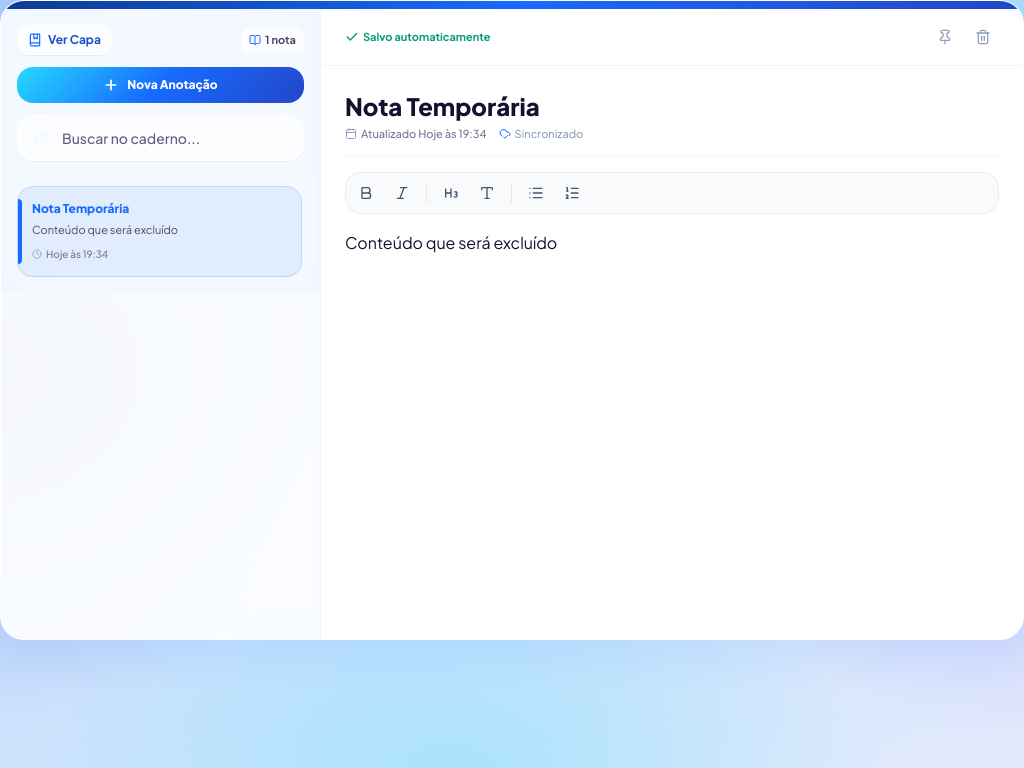
Test: Anotações (Notes) UI and Integration Tests › confirms before deleting a note and removes it upon confirmation
Expected: the heading "Nota Temporária" is shown, [32,201,129,216]
Note: Click delete trigger button in the note editor
Step 1. Click the button named "Excluir anotação" → [983, 37], box [967,21,999,53]
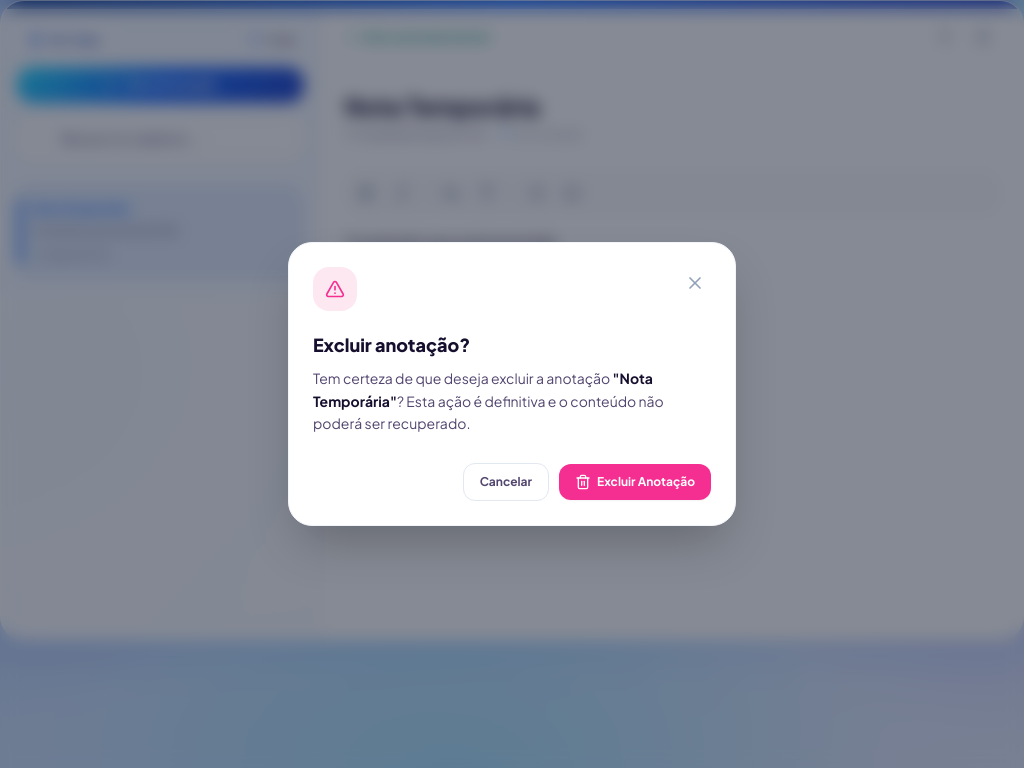
Expected: the dialog is shown
Expected: the heading "Excluir anotação?" is shown, [313,333,470,356]
Note: Confirm deletion inside the dialog
Step 2. Click the button "Excluir Anotação" → [635, 482], box [559,464,711,500]
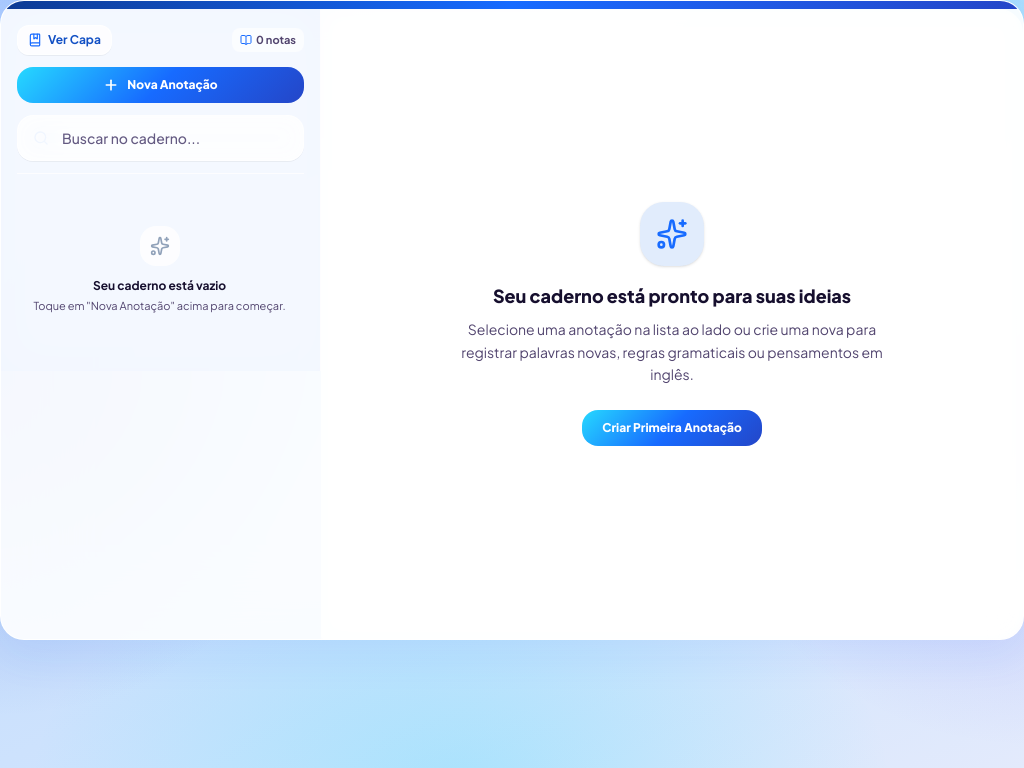
Expected: the heading "Nota Temporária" is gone
